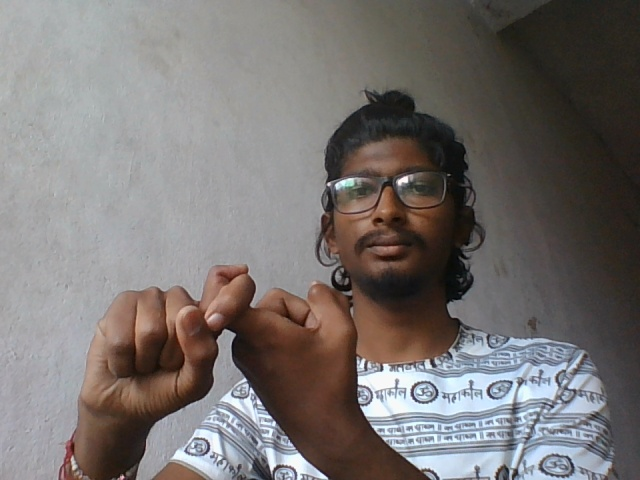ILoveYou: (65, 254, 370, 442)
